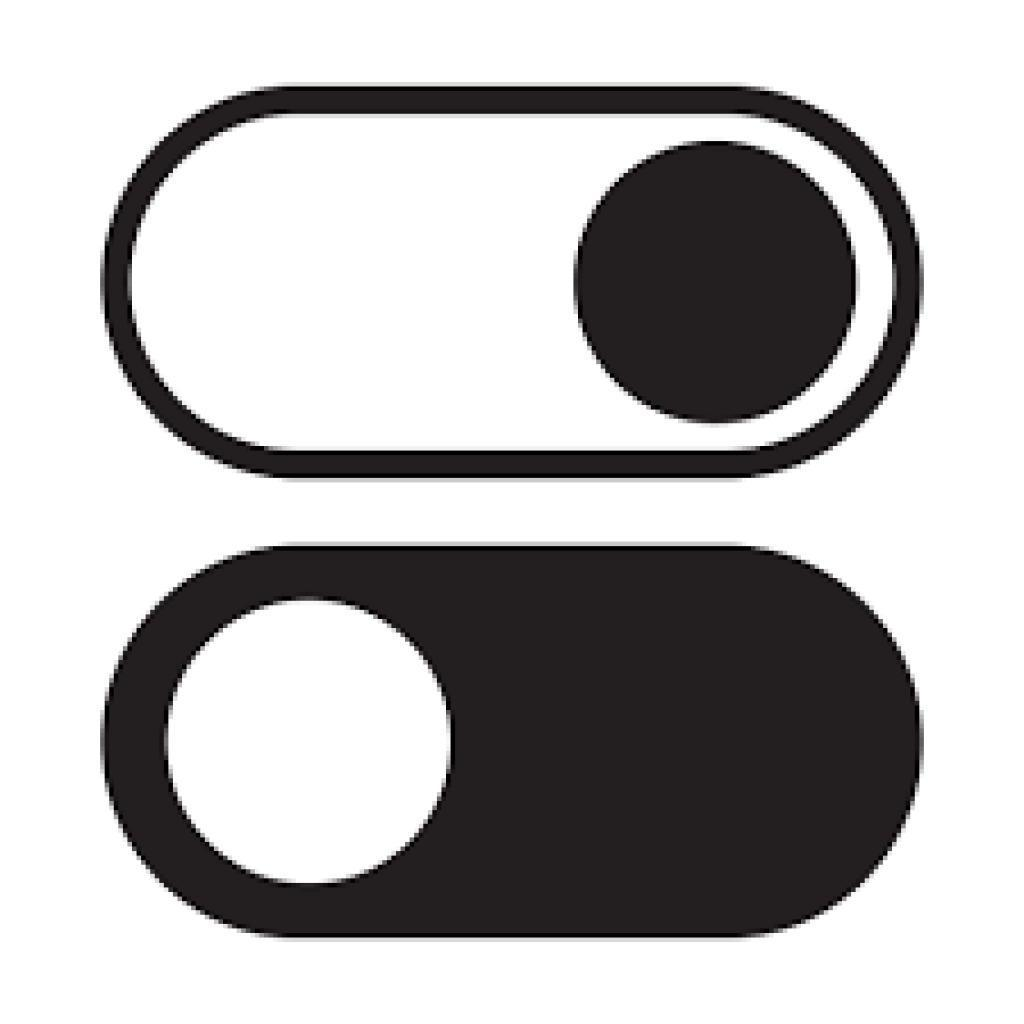switch: (96, 82, 932, 486), (100, 537, 929, 939)
